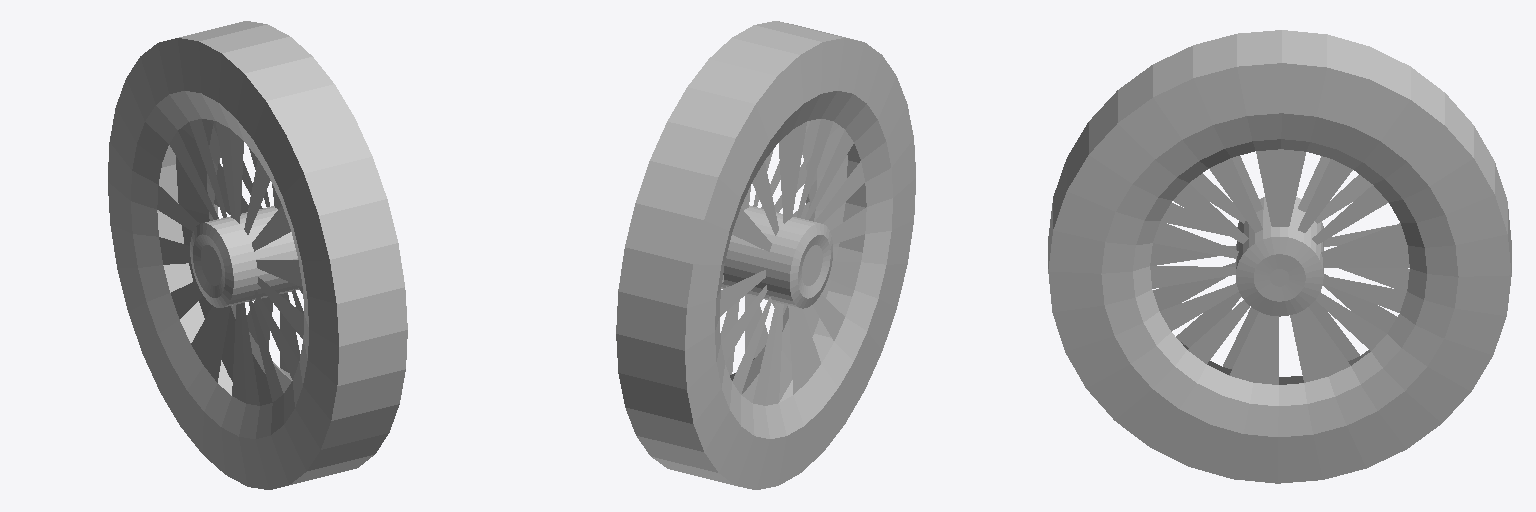
File: wheel.obj
The picture shows the model from 3 angles: view 1: azimuth 30°, elevation 25°; view 2: azimuth 150°, elevation 25°; view 3: azimuth 270°, elevation 25°; orthographic projection.
Visible parts, largest first — view 1: Cylinder; view 2: Cylinder; view 3: Cylinder.
Part boxes in pixels (x1,y1,x2,y2): Cylinder: (108,21,407,489); Cylinder: (616,21,915,489); Cylinder: (1048,30,1511,483).
Size of the model in its own units: 0.7187 by 3.09 by 3.08.